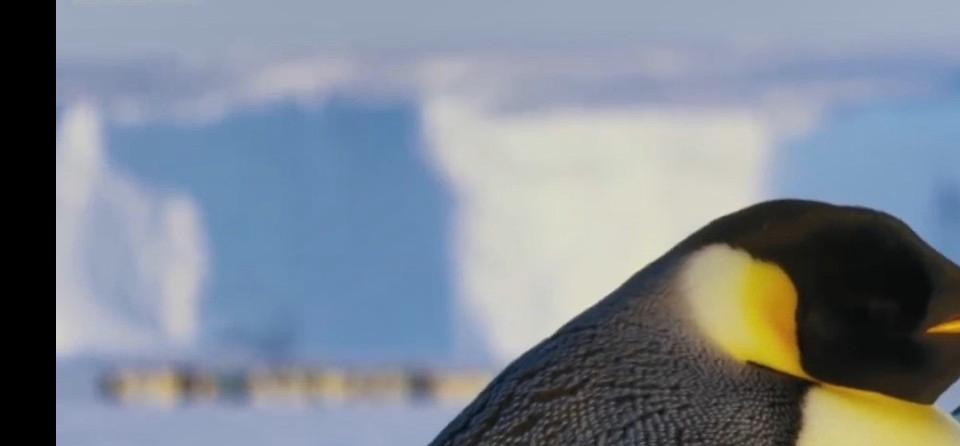Emperor Penguin: (234, 182, 960, 446), (925, 249, 960, 446)
